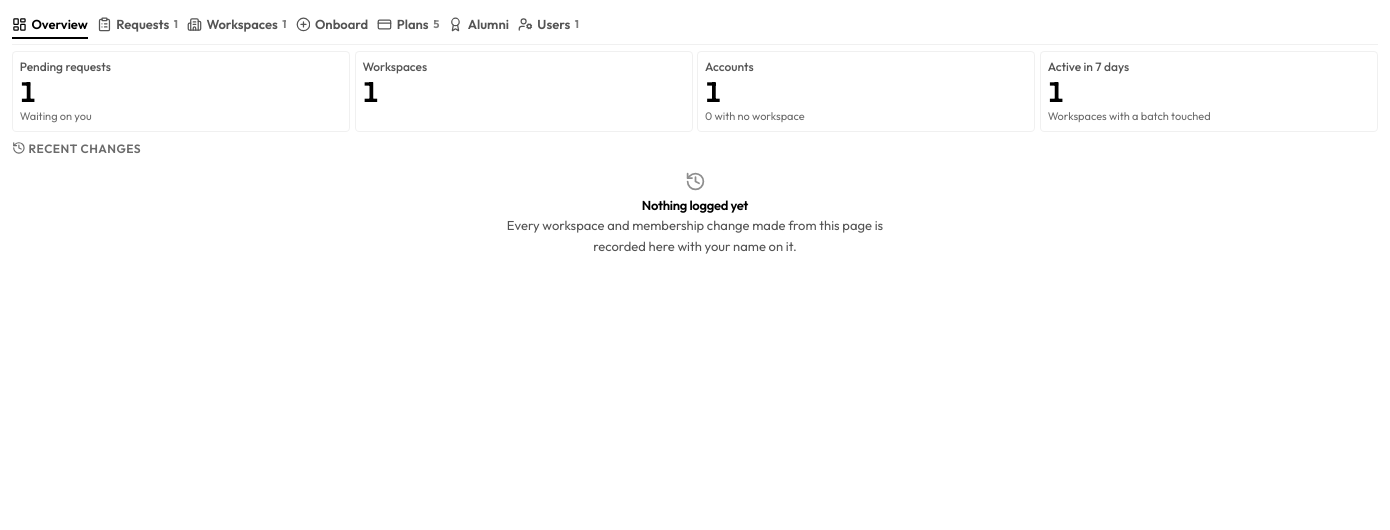
Scenario: FounderConsole › expanding a workspace shows its members and open invites
The width and height of the screenshot is (1390, 530).
Click the tab "Workspaces 1" at (237, 26), box [187, 12, 286, 39]
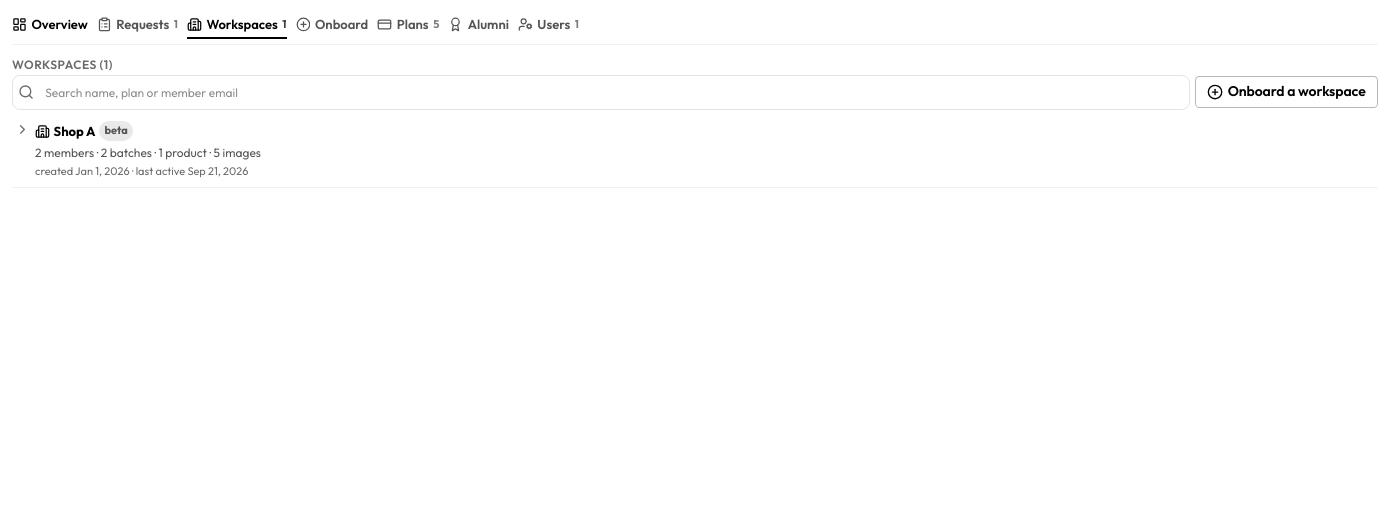
Click the button with class "fc-org-head" at (74, 131), box [12, 114, 1378, 187]
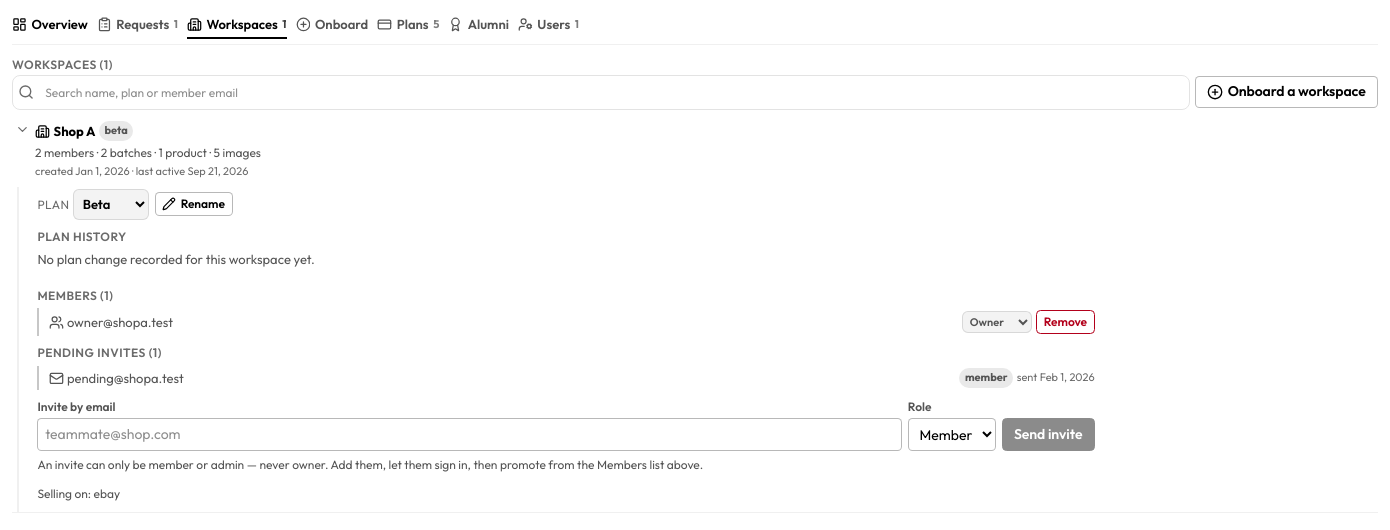
Check: the element with class "fc-org-body" shows "owner@shopa.test", box [67, 314, 173, 330]
Check: the element with class "fc-org-body" shows "pending@shopa.test", box [67, 370, 184, 386]
Check: the element with class "fc-org-body" shows "Selling on: ebay", box [17, 187, 1097, 512]
